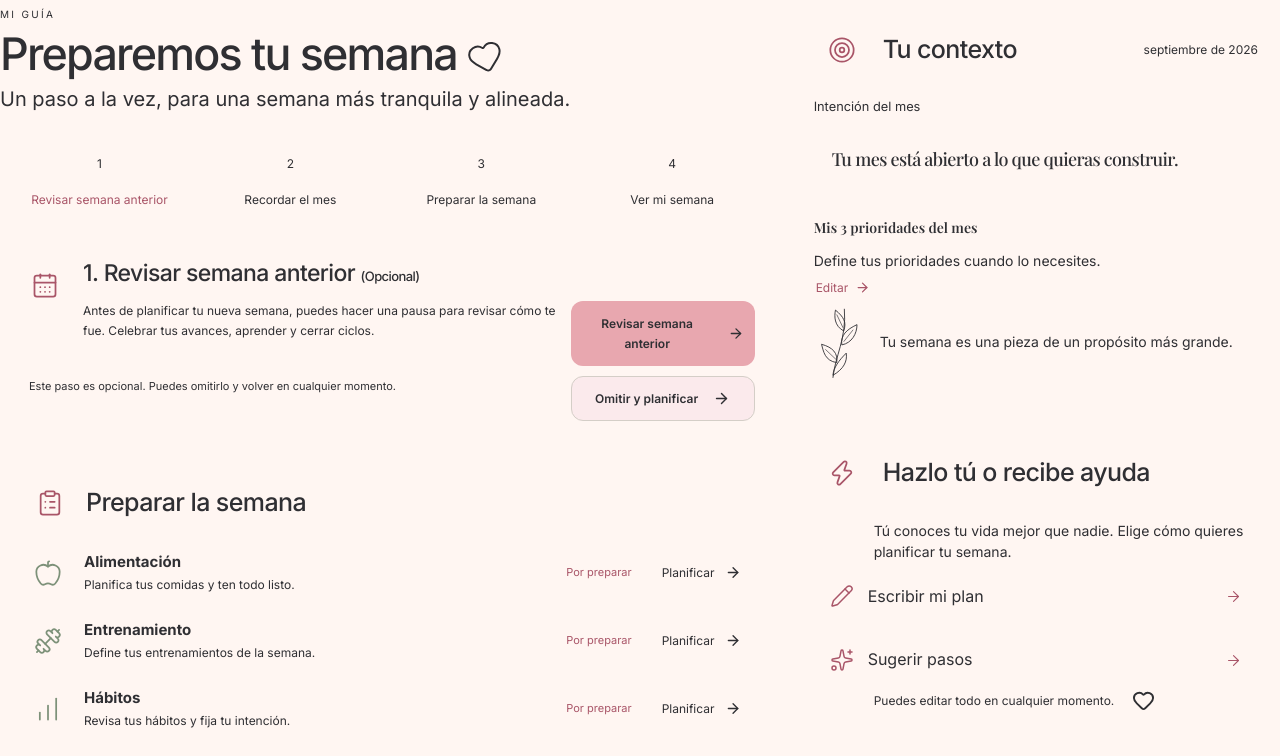
it: fields cannot change underneath a pending save › locks the review move date and other move controls while keeping the canonical task ID
Click the button "1 Revisar semana anterior": x=99, y=177 [4,146,195,208]
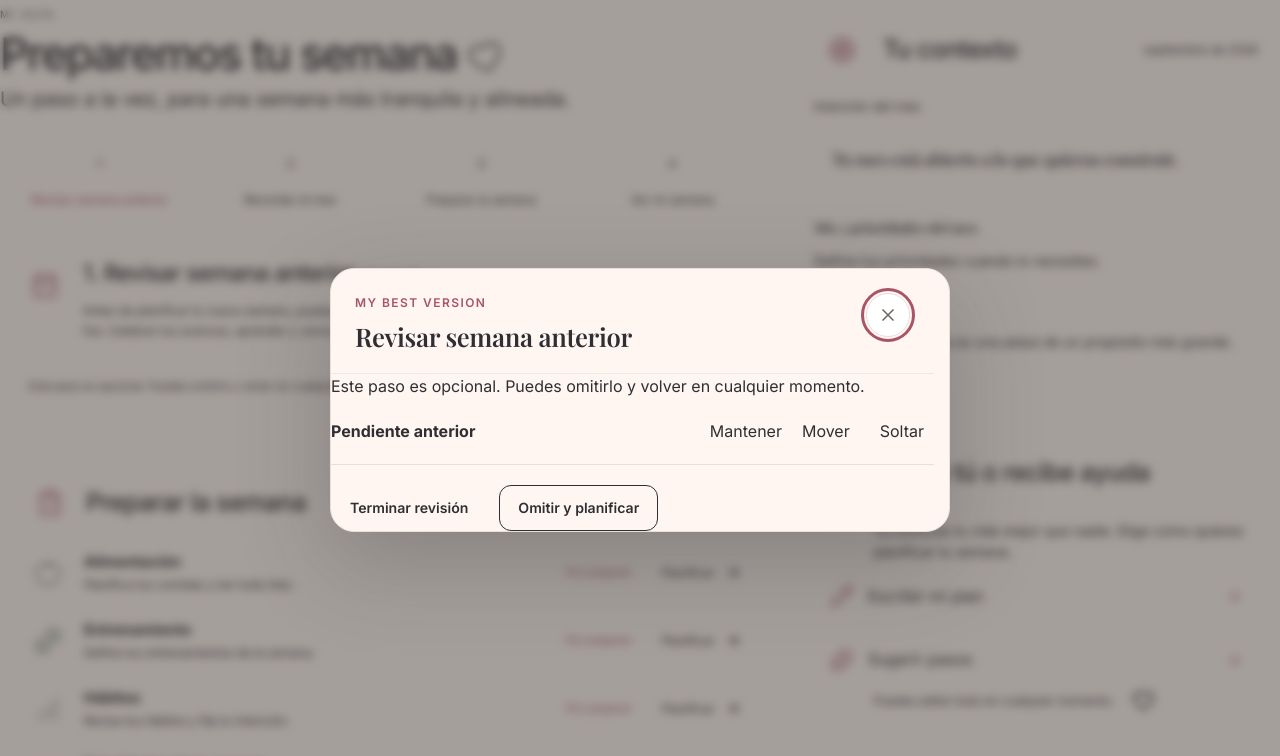
Click the button "Mover": x=826, y=432 [792,414,860,450]
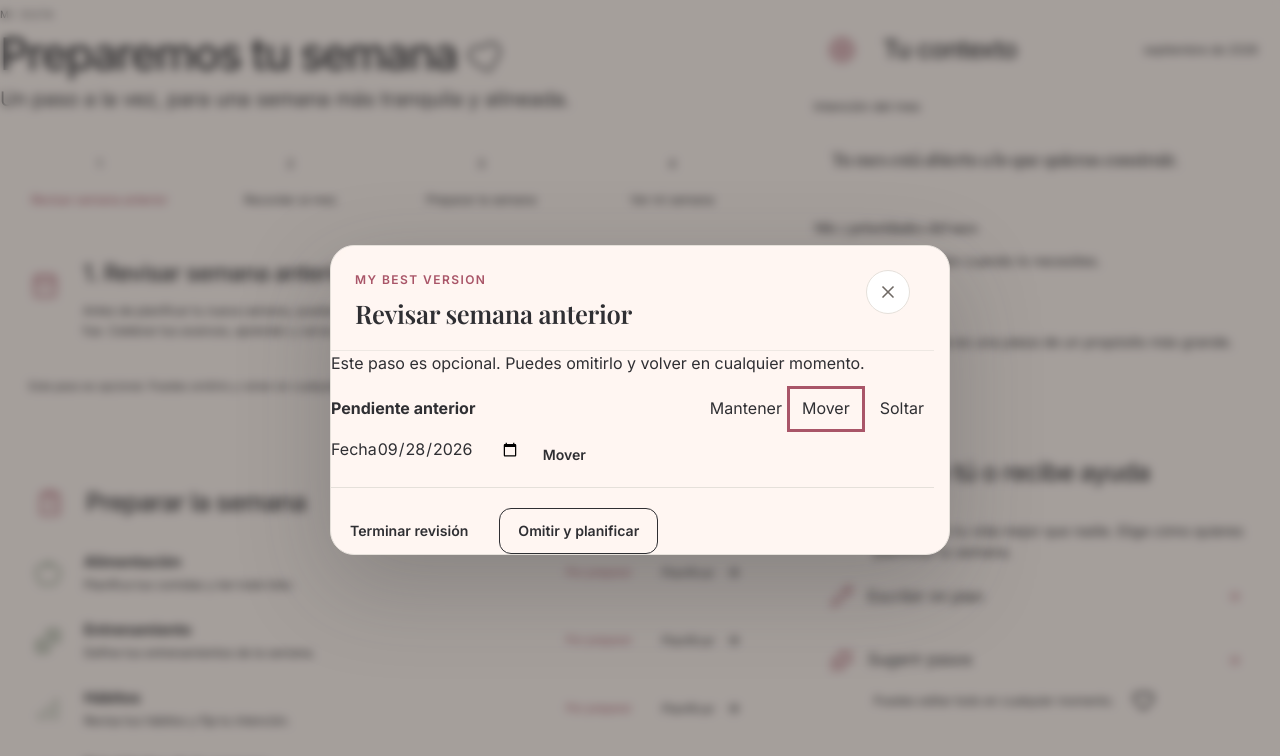
In the date field labelled "Fecha": x=448, y=450 [377,437,520,462], type "2026-10-02"
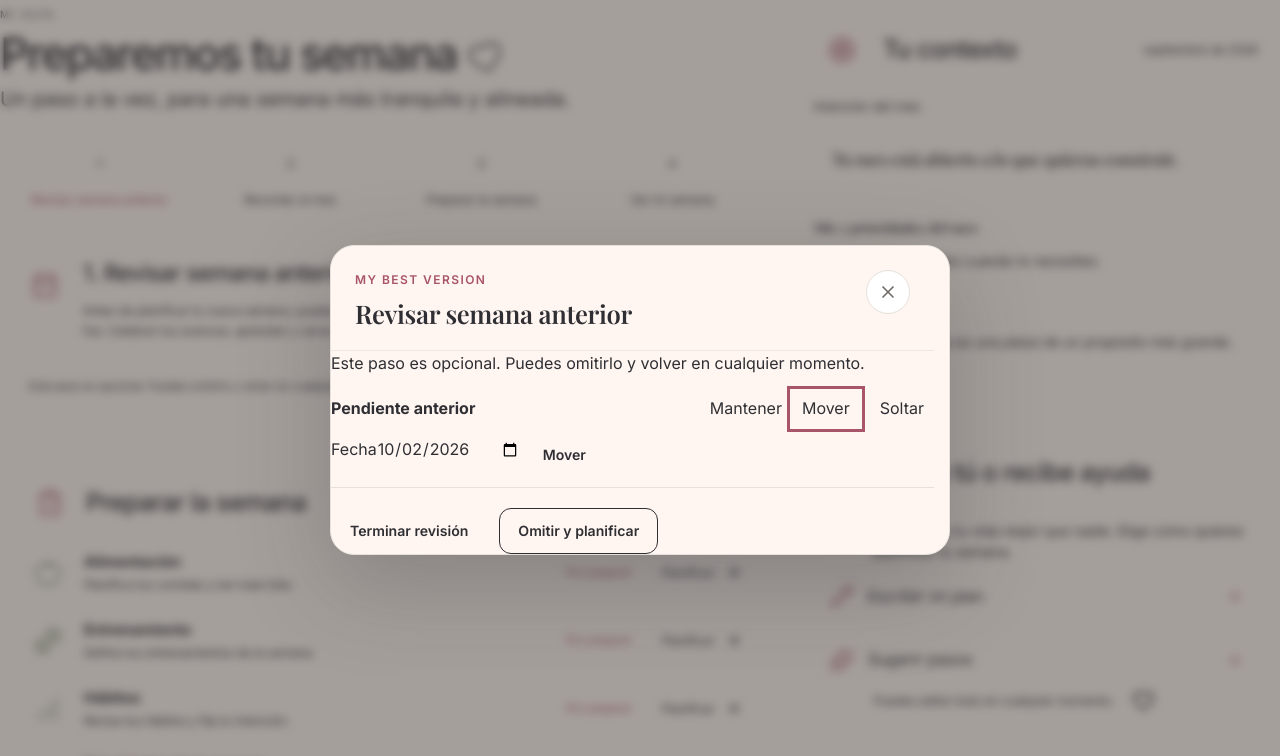
Click the button "Mover" next to "Fecha": x=564, y=455 [532,437,597,473]
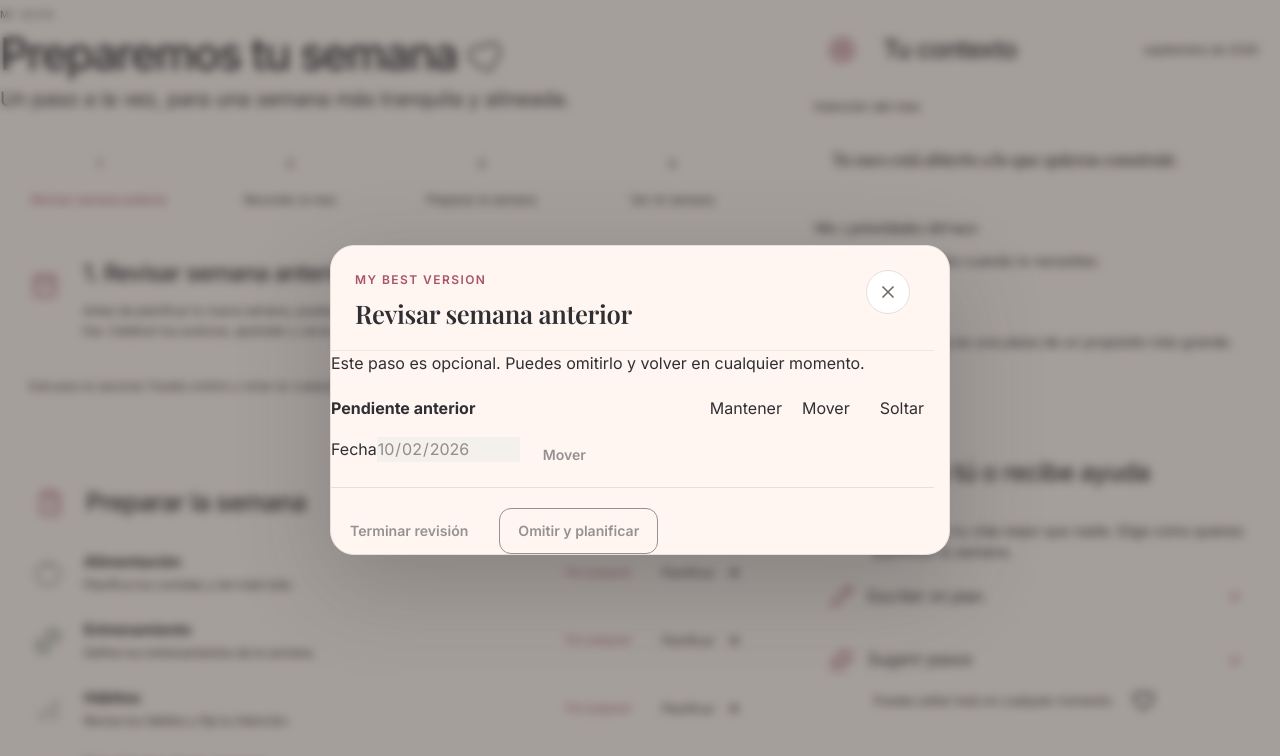
In the date field labelled "Fecha": x=448, y=450 [377,437,520,462], type "2026-10-03"
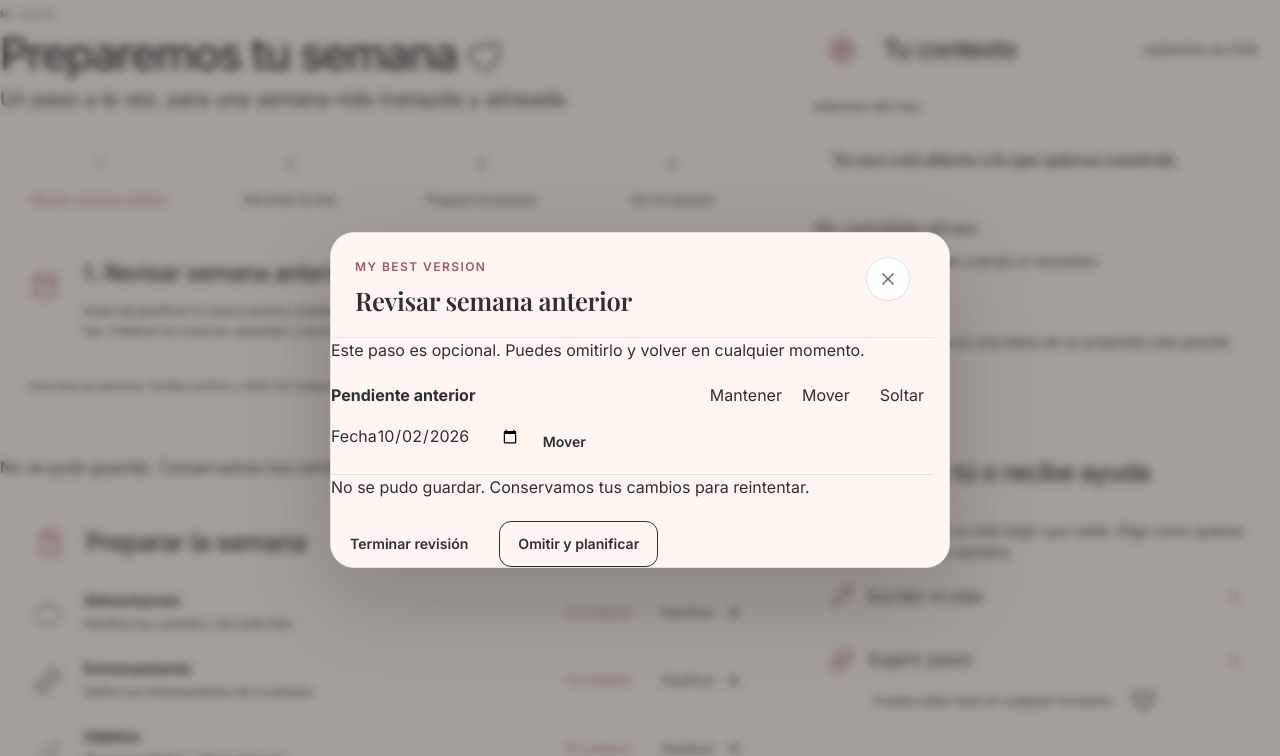
Expected: the message "No se pudo guardar. Conservamos tus cambios para reintentar." is shown, [331,477,810,497]
Click the button "Mover" next to "Fecha": x=564, y=442 [532,424,597,460]
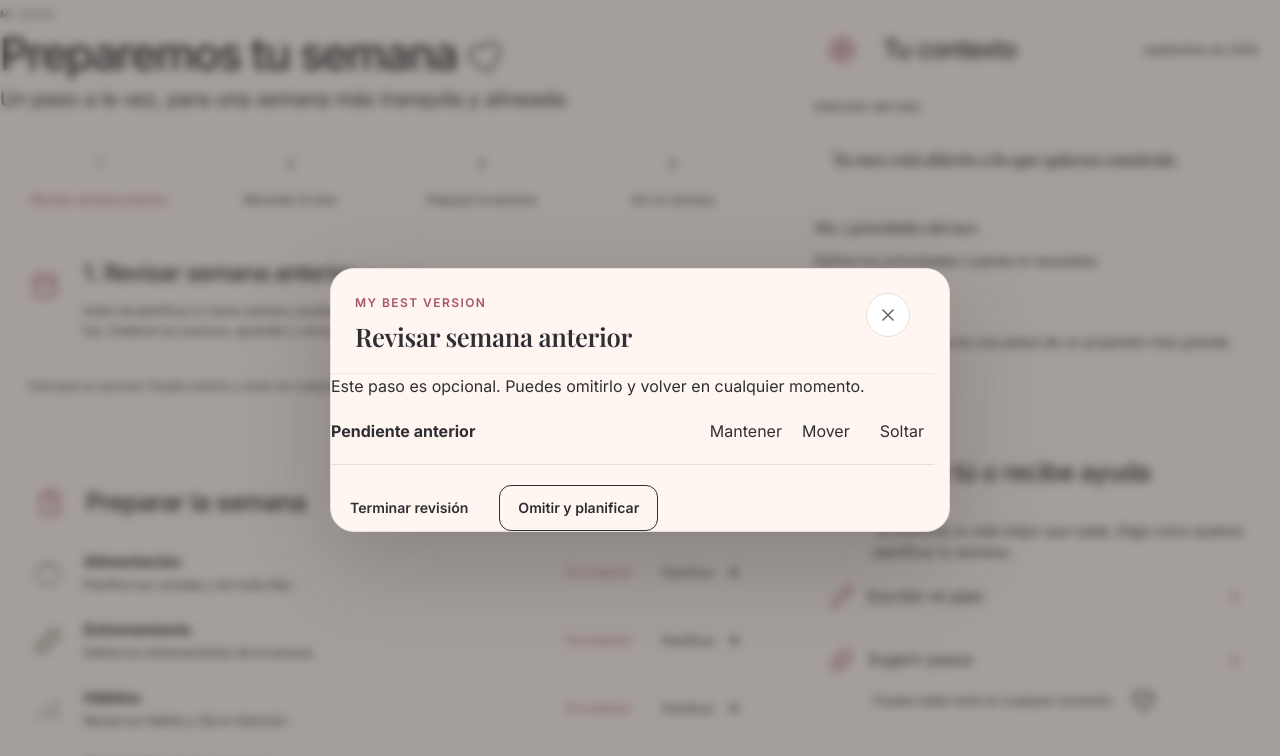
Expected: the label labelled "Fecha" is gone
